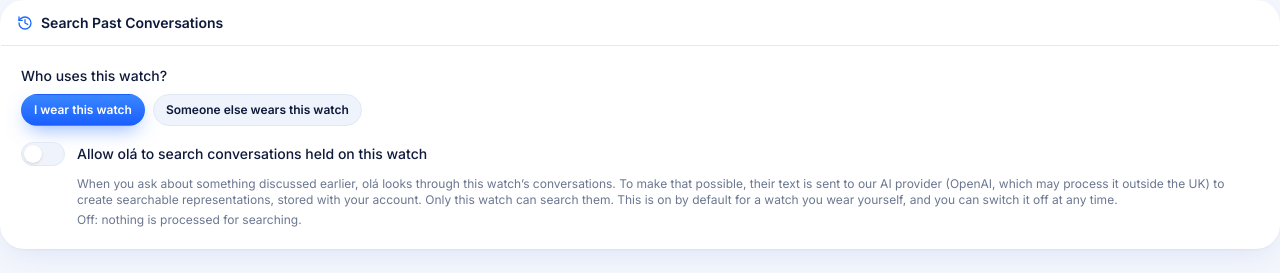
Scenario: Search Past Conversations (per watch) › explains the processing and asks the server to switch on for the holder's own watch
Check: the text "sent to our AI provider" is shown, box left=77, top=176, right=1224, bottom=207
Click the switch.
click(43, 154)  # box left=21, top=142, right=65, bottom=166
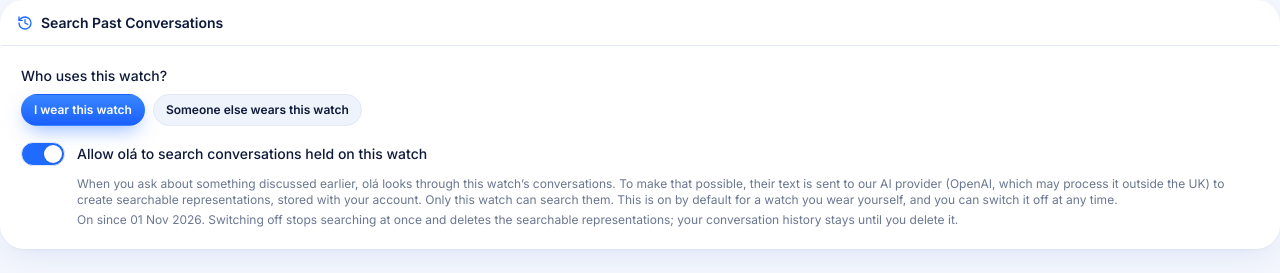
Check: the text "deletes the searchable representations" is shown, box left=77, top=212, right=958, bottom=227
